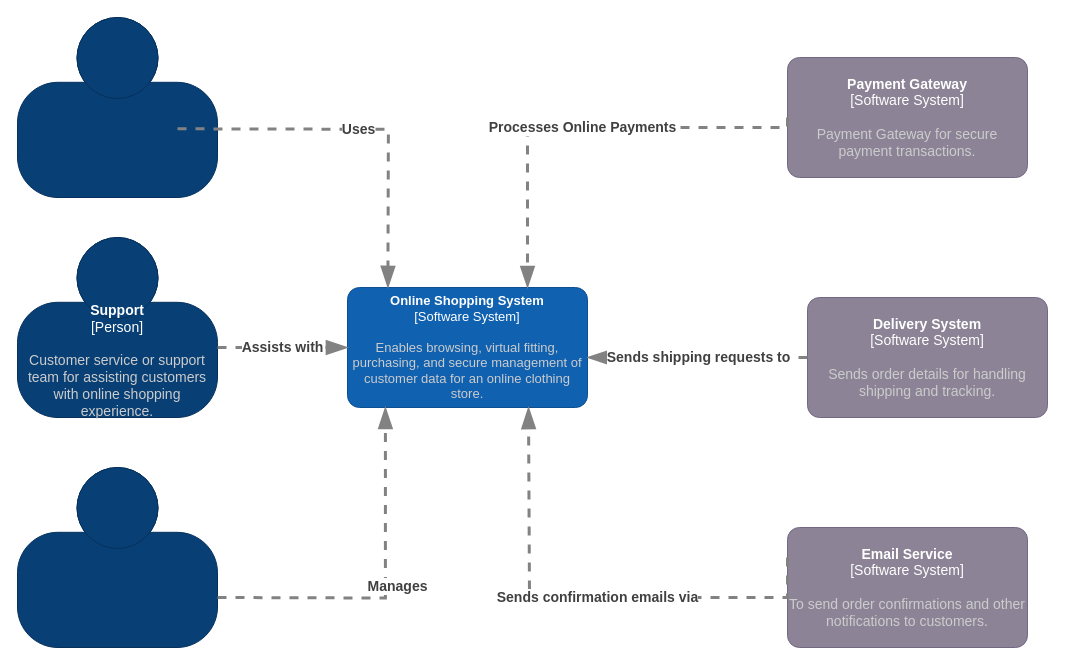
The diagram is 1065 pixels wide and 665 high, and some of its shapes have lost their labels. Each missing label, with the centre of its shape:
"Admin [Person] Person that administers the online shopping website." belongs at [117,557].
"Customer [Person] Person buying from online store." belongs at [117,107].
